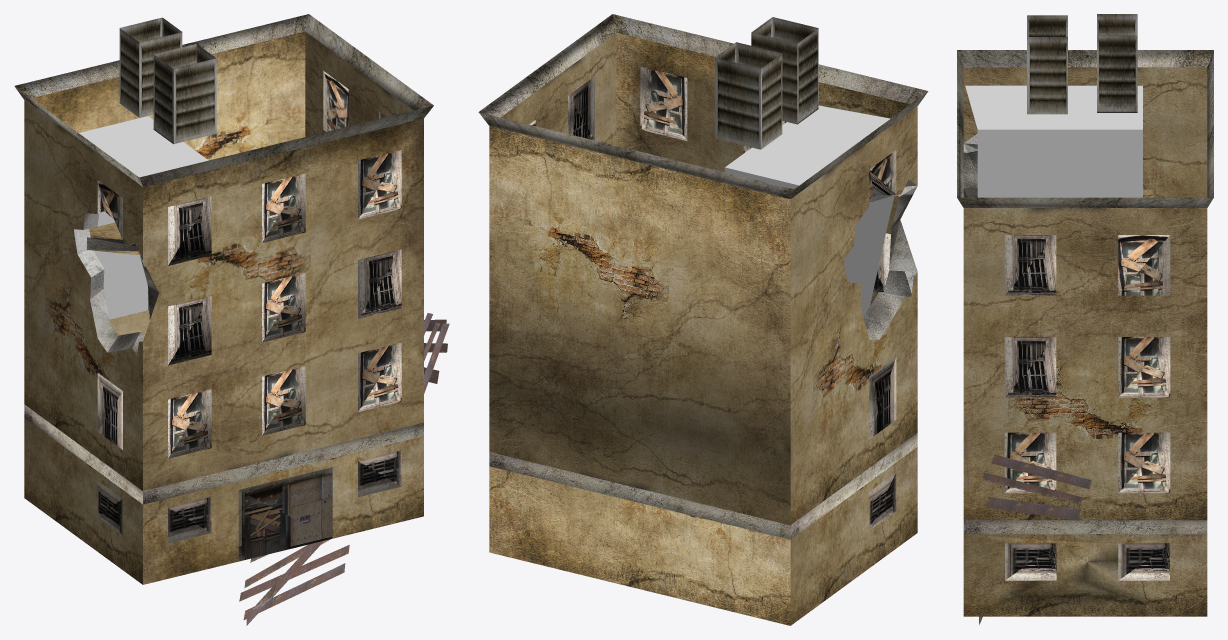
The model's file is Big_house3_LOD2.FBX.
3 views of the same model, side by side, from view 1: azimuth 30°, elevation 25°; view 2: azimuth 150°, elevation 25°; view 3: azimuth 270°, elevation 25° (orthographic). The views are drawn at different scales.
Parts seen in each view (by area): view 1: Box004, black002, planks002; view 2: Box004, black002; view 3: Box004, black002, planks002.
Part boxes in pixels (left/top/right/bottom): Box004: left=14, top=14, right=433, bottom=584; black002: left=79, top=116, right=208, bottom=319; planks002: left=239, top=313, right=449, bottom=625; Box004: left=478, top=14, right=928, bottom=625; black002: left=725, top=105, right=894, bottom=316; Box004: left=957, top=14, right=1213, bottom=616; black002: left=965, top=85, right=1142, bottom=197; planks002: left=965, top=413, right=1091, bottom=624.
Size of the model in its own units: 99.14 by 162 by 66.
2 materials, 2 textured.
